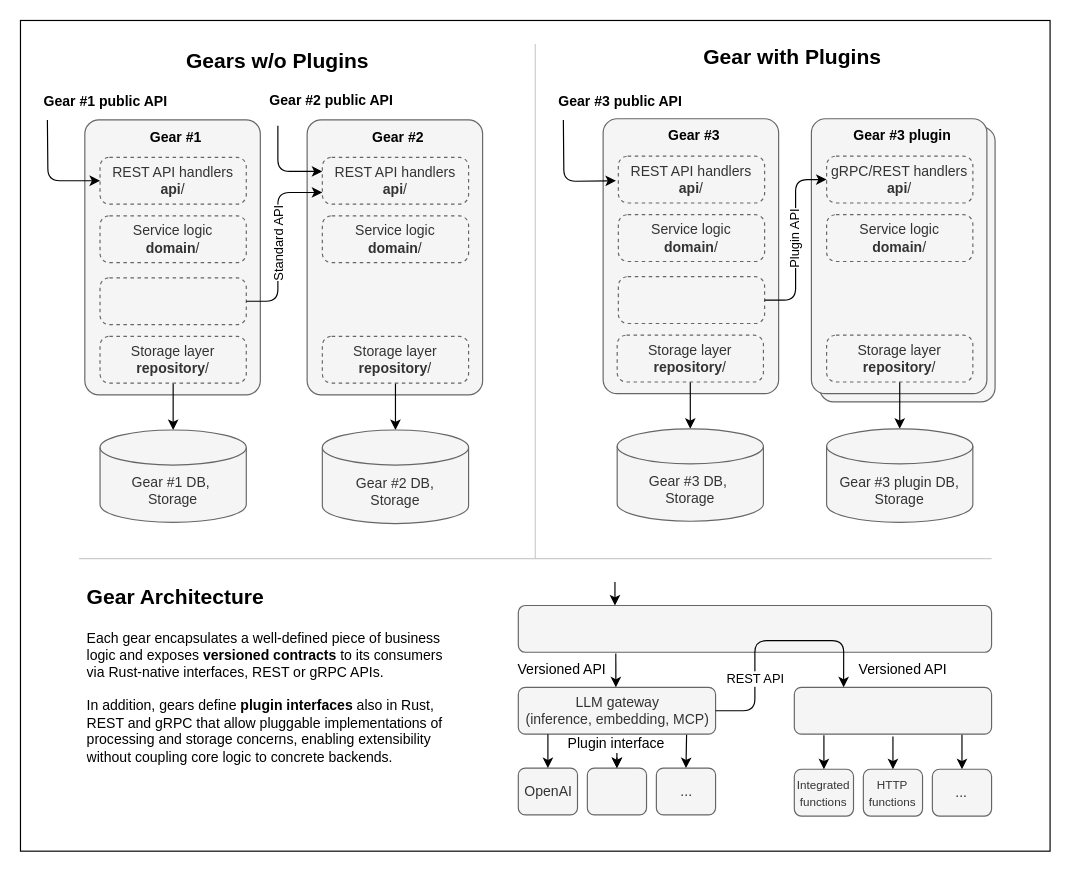
This 1071x872 diagram has some shape labels left out. The box of each missing label's shape, as (x1, y1, x2, y2) in pixels:
API gateway: (517, 604, 992, 652)
External clients clients /: (99, 277, 246, 325)
External clients clients/: (617, 276, 765, 324)
MCP gateway: (793, 686, 992, 734)
Ollama: (586, 767, 647, 815)
